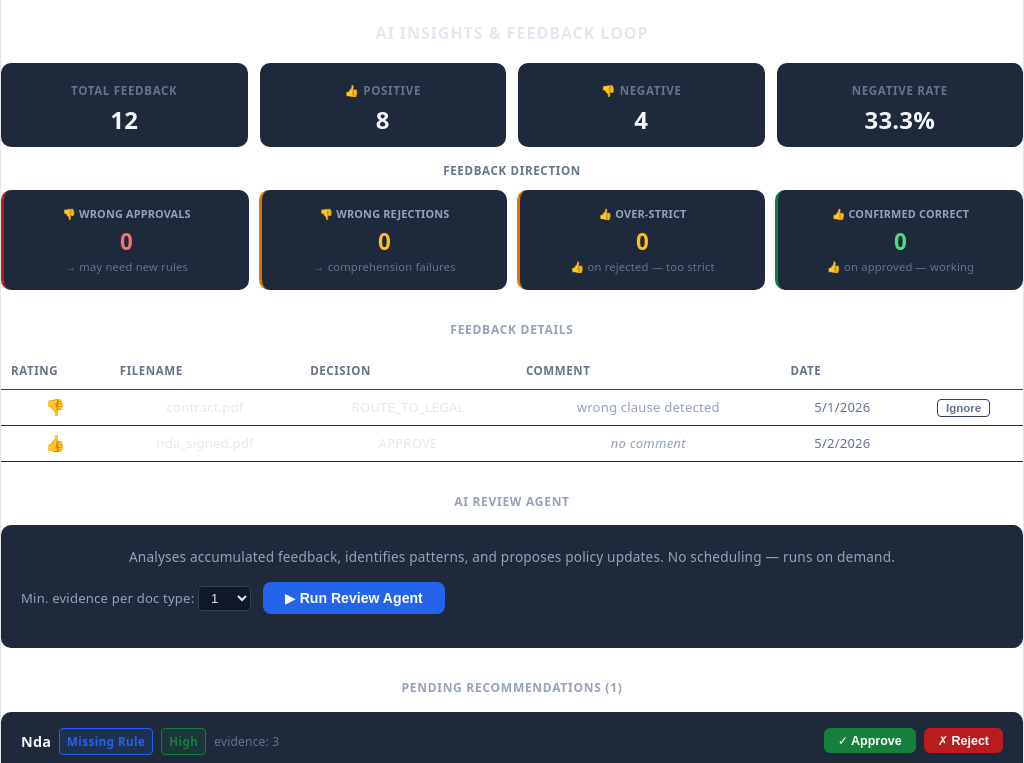
Test: InsightsDashboard — reject button › shows rejection message after reject
The width and height of the screenshot is (1024, 763).
Click the button "✗ Reject": (963, 740) [924,728,1003,752]
(page scrolled)
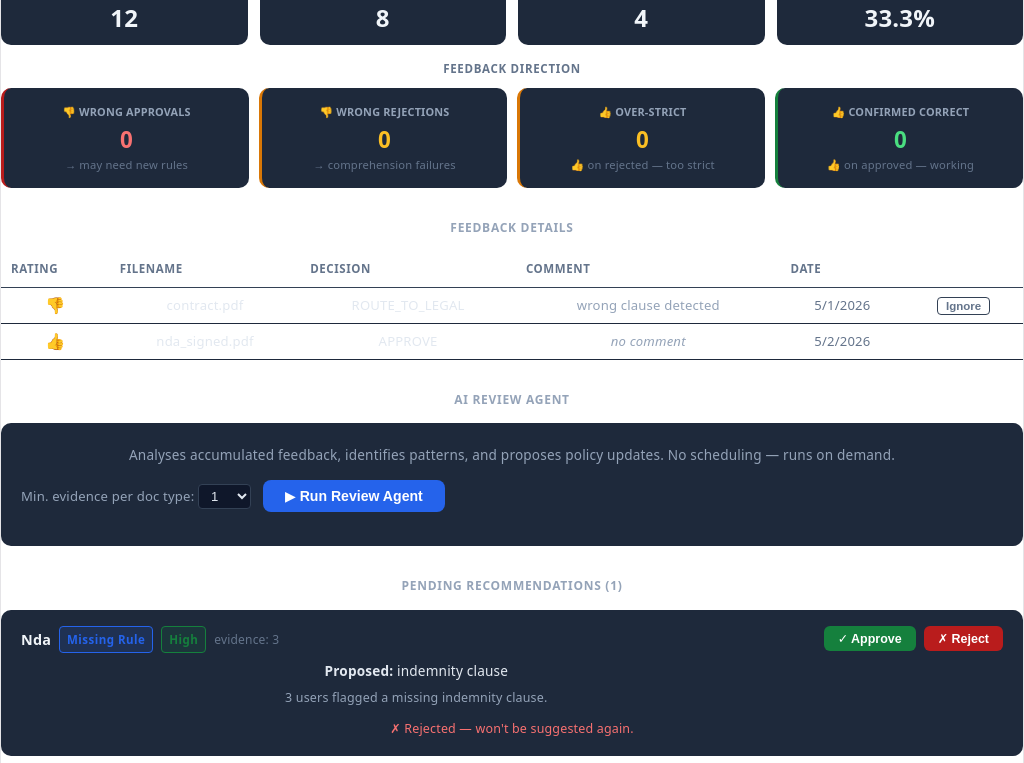
Expected: the text "✗ Rejected — won't be suggested again." is shown, [390,720,634,737]
